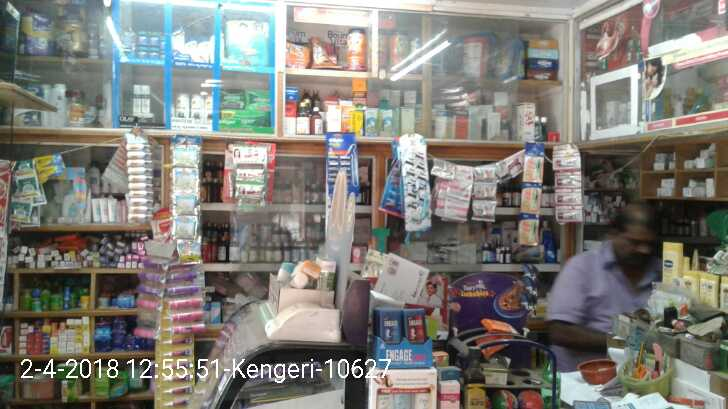vicks: (131, 28, 168, 59)
